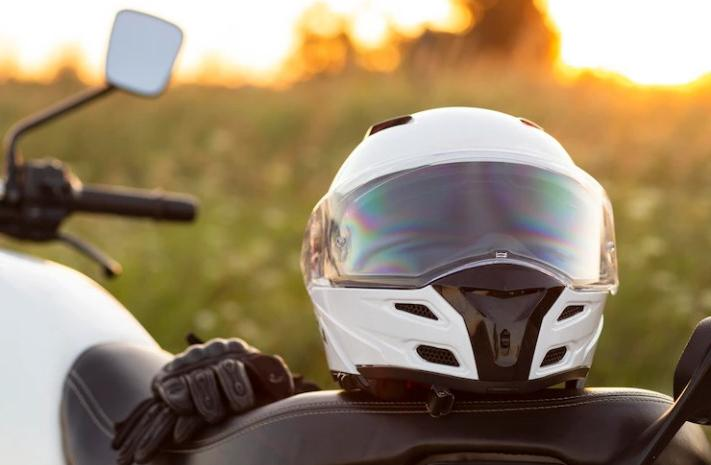Helmet: (302, 107, 619, 404)
